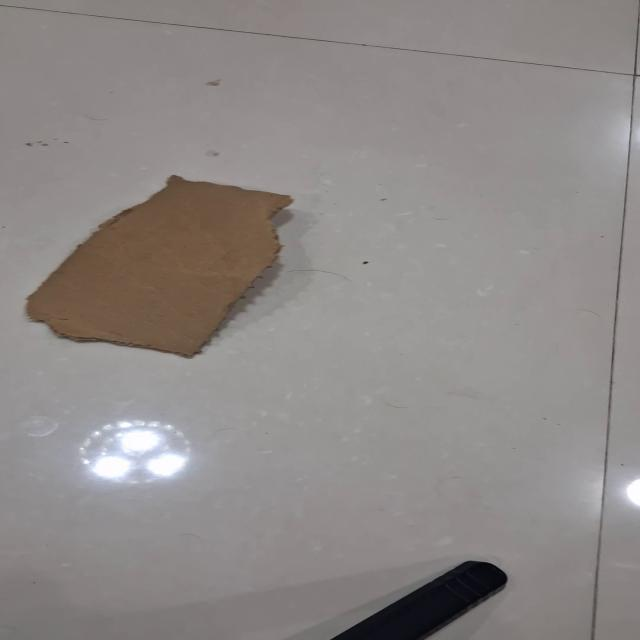paper: (24, 173, 294, 359)
